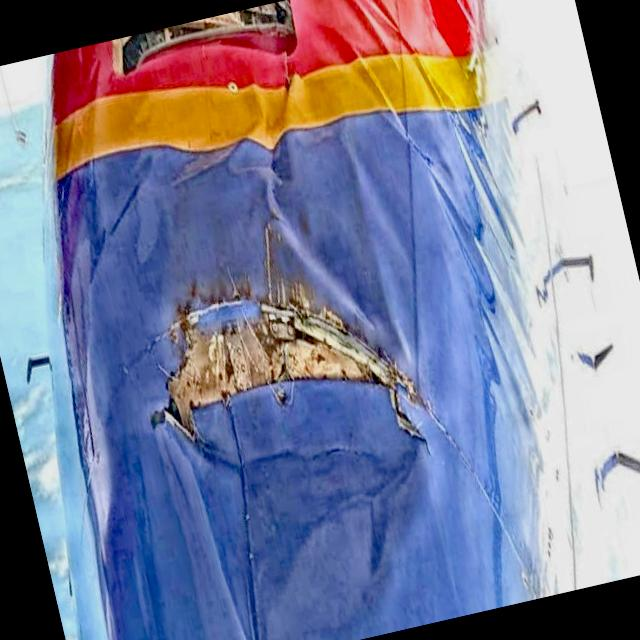crack: (125, 244, 449, 523)
